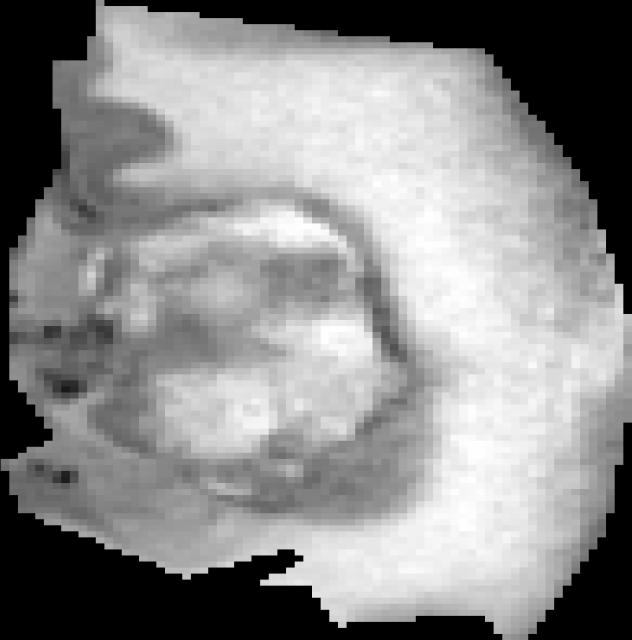tumor_moderate_chance: (1, 0, 632, 640)
